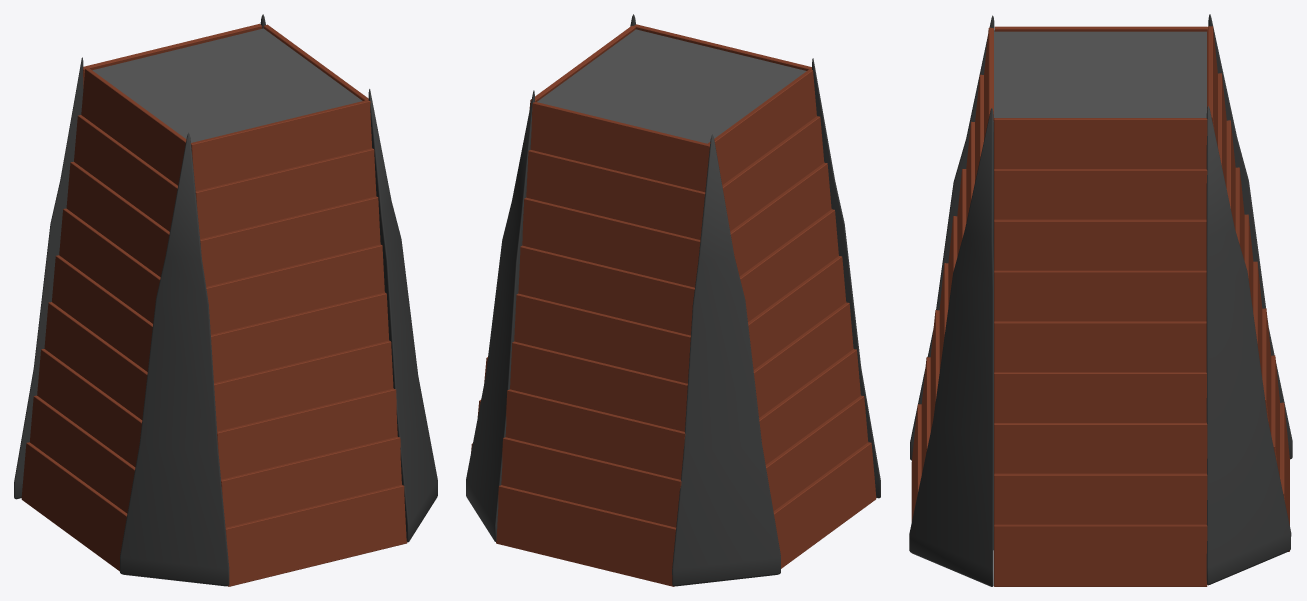
The model's file is Torch.fbx.
3 renders of one model, left to right at view 1: azimuth 30°, elevation 25°; view 2: azimuth 150°, elevation 25°; view 3: azimuth 270°, elevation 25°, orthographic. The views are drawn at different scales.
Visible parts, largest first — view 1: Cube; view 2: Cube; view 3: Cube.
Part boxes in pixels (x1=…): Cube: x1=14, y1=14, x2=437, y2=586; Cube: x1=466, y1=14, x2=880, y2=586; Cube: x1=909, y1=14, x2=1292, y2=586.
Bounding box in the file's own units: 186 × 237 × 184.
